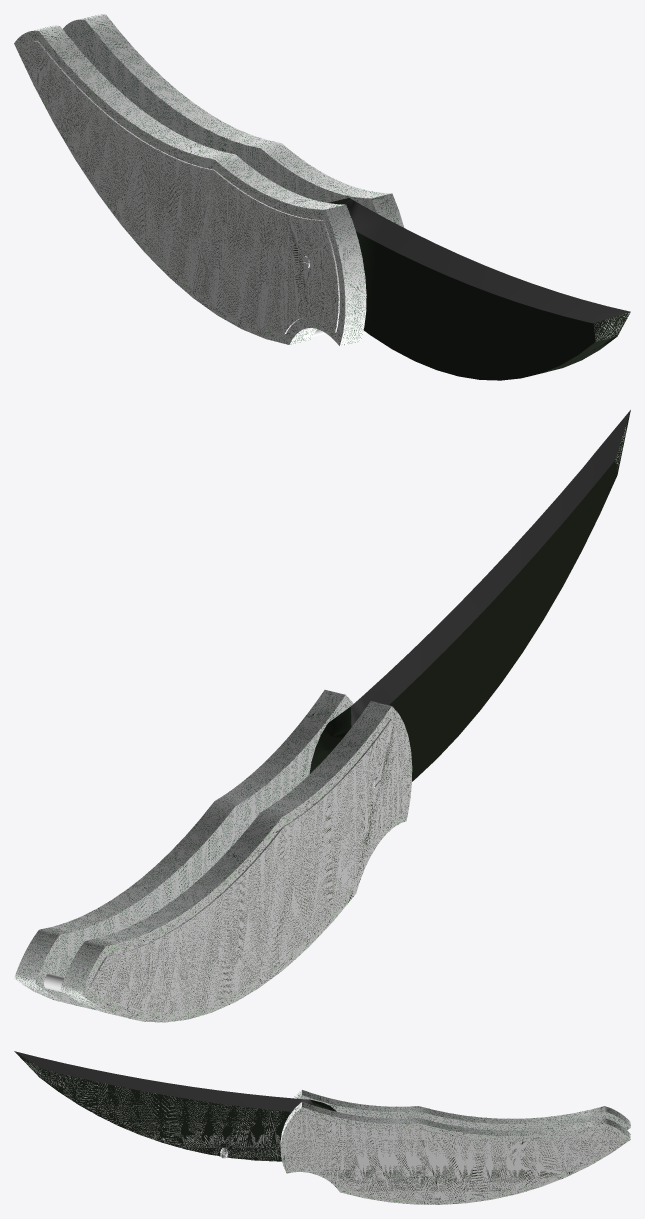
File: model_scale.obj
3 renders of one model, top to bottom at view 1: azimuth 30°, elevation 25°; view 2: azimuth 150°, elevation 25°; view 3: azimuth 270°, elevation 25°, orthographic. The views are drawn at different scales.
Visible parts, largest first — view 1: mesh1_mesh1-geometry; view 2: mesh1_mesh1-geometry; view 3: mesh1_mesh1-geometry.
Part boxes in pixels (x1,y1,x2,y2): mesh1_mesh1-geometry: [14, 14, 630, 380]; mesh1_mesh1-geometry: [14, 410, 630, 1022]; mesh1_mesh1-geometry: [14, 1051, 630, 1204].
Bounding box in the file's own units: 0.0155 × 0.0562 × 0.2168.
Materials: 10 (3 with a texture image).
